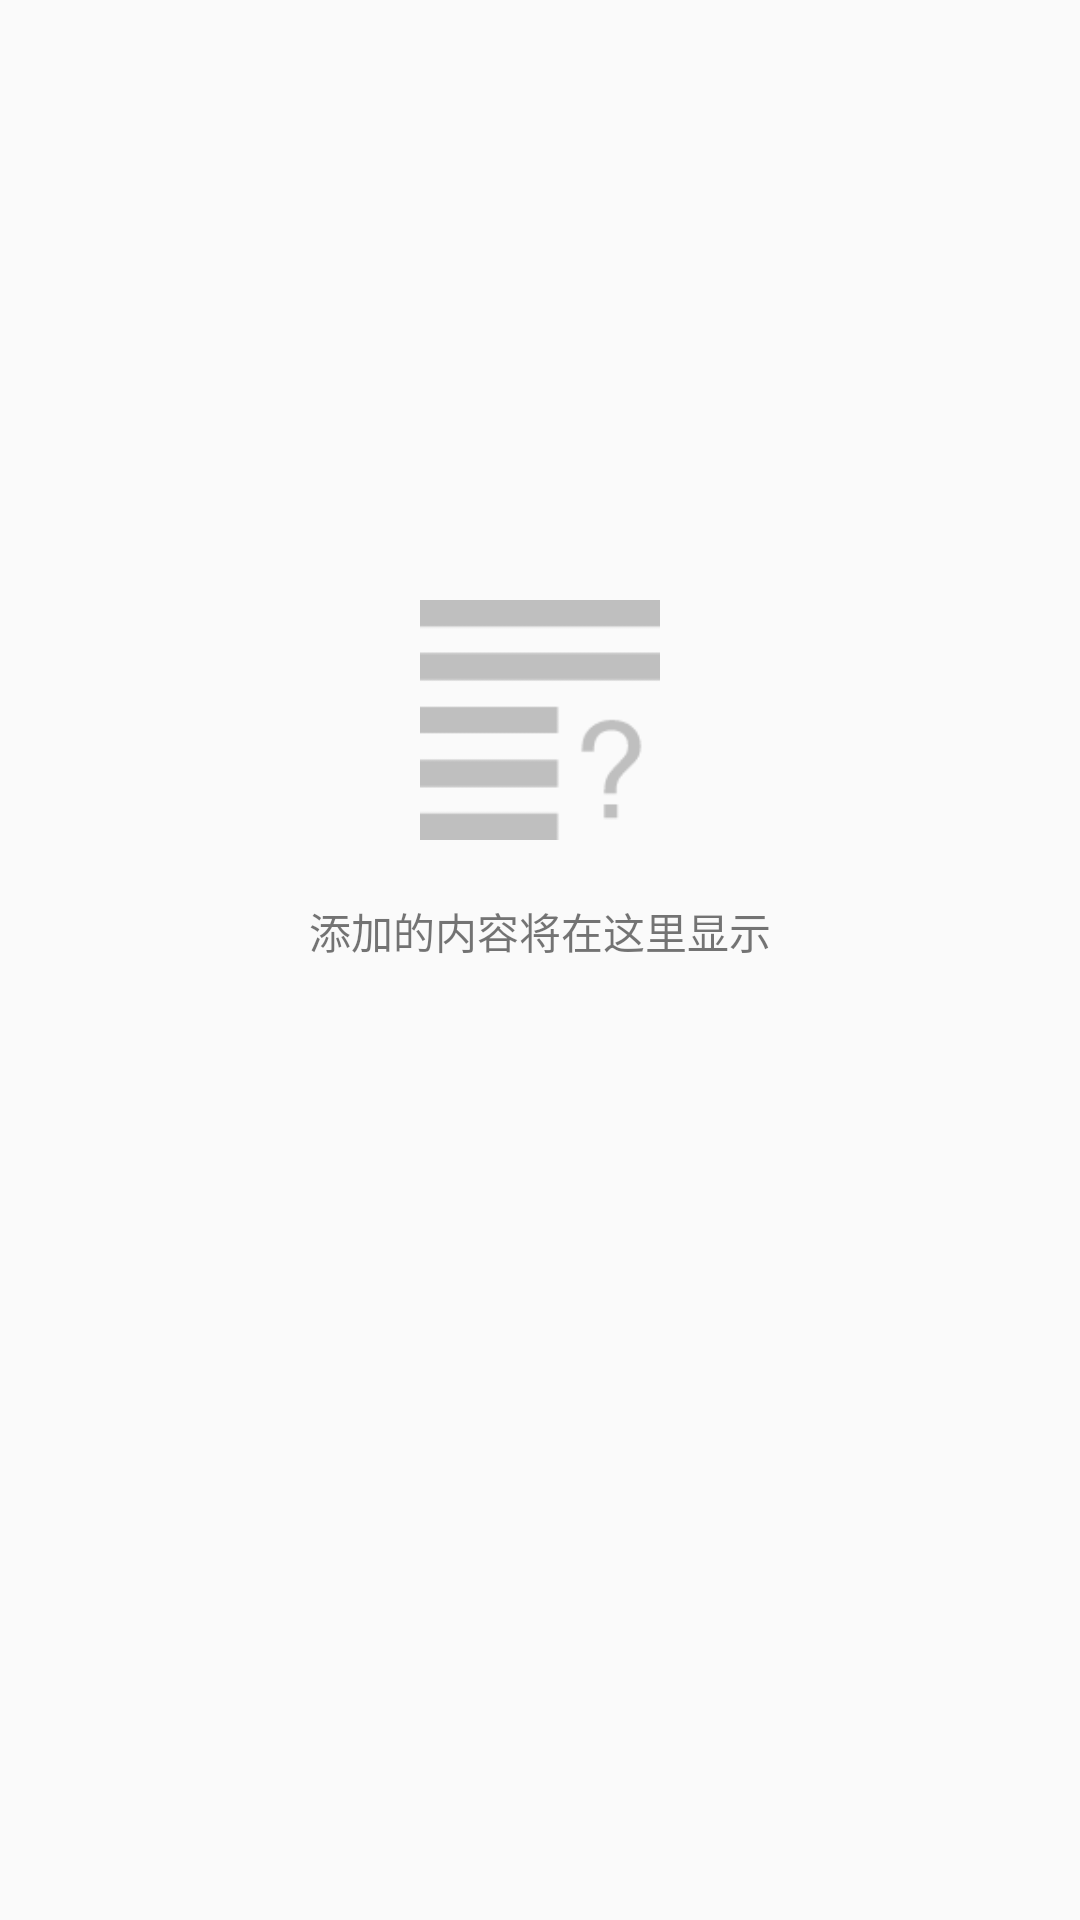

Where icons sit on this 1080×1920 app screen, as (x1, y1, x2, y2):
empty: (420, 600, 660, 840)
